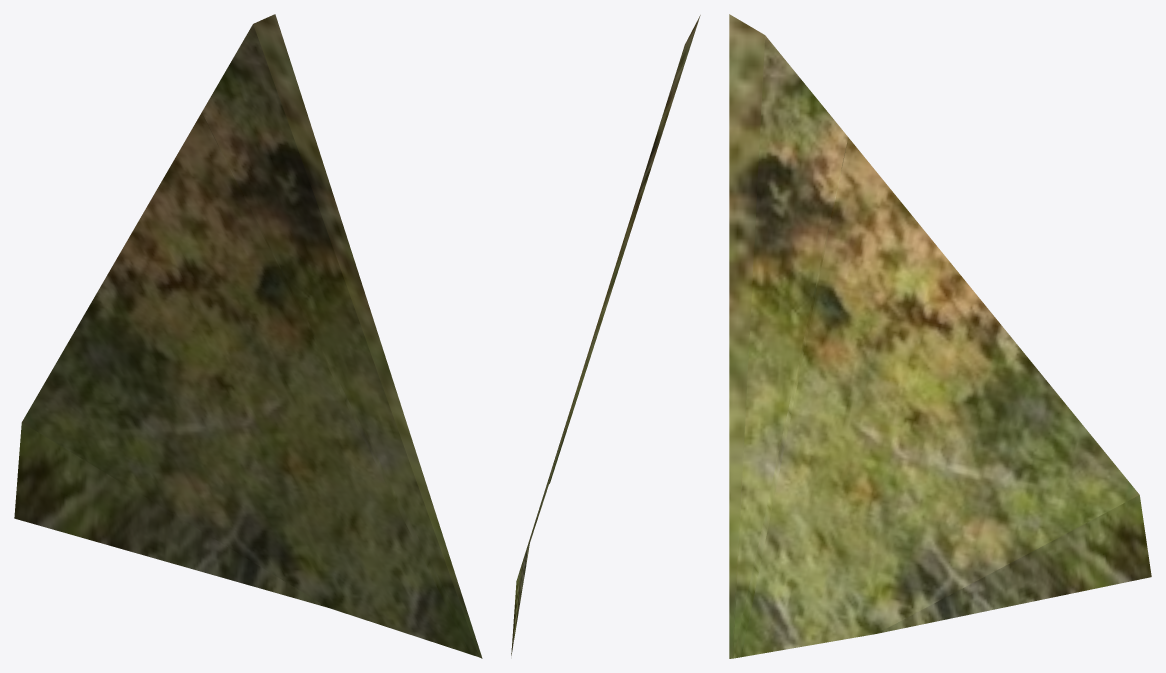
3 renders of one model, left to right at view 1: azimuth 30°, elevation 25°; view 2: azimuth 150°, elevation 25°; view 3: azimuth 270°, elevation 25°, orthographic. The views are drawn at different scales.
Size of the model in its own units: 0.816 by 2.62 by 1.78.
1 material, 1 textured.
